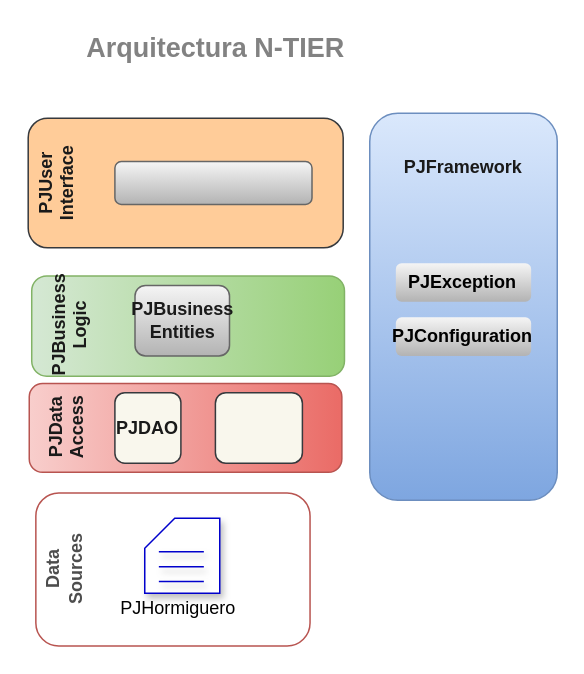
Some shapes in this 584 by 674 pixel diagram are drawn without their labels. Here are the shapes that lost their labels. From the top down, the centre of each, then its label:
At pixel 212 182: "UI Component".
At pixel 258 427: "PJDTO".
